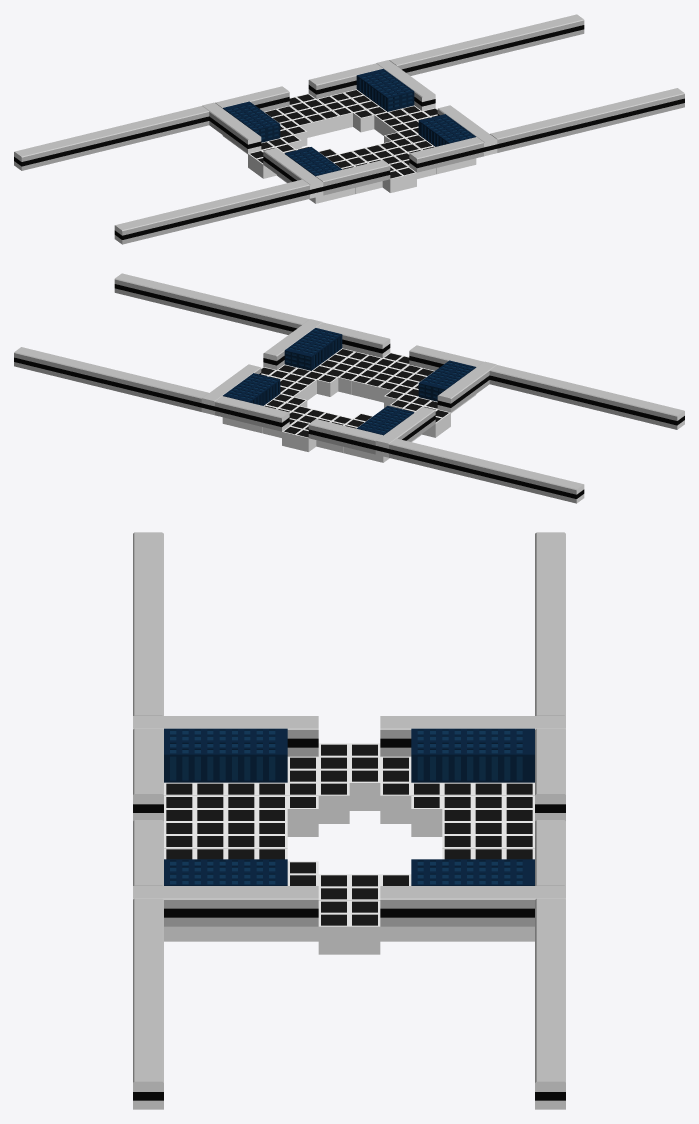
File: cargoLarge1.fbx
3 views of the same model, one above another, from view 1: azimuth 30°, elevation 25°; view 2: azimuth 150°, elevation 25°; view 3: azimuth 270°, elevation 25° (orthographic). The views are drawn at different scales.
Visible parts, largest first — view 1: Cube.164, Cube.009, Cube.194, Cube.001, Cube.003, Cube.208, Cube.008, Cube.163, Cube.118, Cube.010, Cube.168, Cube.200 (+4 smaller); view 2: Cube.009, Cube.164, Cube.163, Cube.008, Cube.208, Cube.003, Cube.194, Cube.001, Cube.101, Cube.010, Cube.168, Cube.202 (+4 smaller); view 3: Cube.163, Cube.001, Cube.164, Cube.194, Cube.208, Cube.003, Cube.009, Cube.008, Cube.063, Cube.064, Cube.082, Cube.089 (+19 smaller).
Part boxes in pixels (<box>): Cube.164: <box>356,72,400,111</box>; Cube.009: <box>418,117,462,146</box>; Cube.194: <box>370,69,414,108</box>; Cube.001: <box>236,101,280,141</box>; Cube.003: <box>222,105,266,142</box>; Cube.208: <box>284,150,328,176</box>; Cube.008: <box>432,114,475,140</box>; Cube.163: <box>298,147,341,172</box>; Cube.118: <box>353,109,374,132</box>; Cube.010: <box>409,150,430,172</box>; Cube.168: <box>308,76,329,98</box>; Cube.200: <box>414,88,435,110</box>; Cube.009: <box>298,331,342,370</box>; Cube.164: <box>236,376,280,405</box>; Cube.163: <box>418,360,462,400</box>; Cube.008: <box>284,328,328,367</box>; Cube.208: <box>432,364,476,401</box>; Cube.003: <box>370,409,414,435</box>; Cube.194: <box>223,373,266,399</box>; Cube.001: <box>357,406,400,431</box>; Cube.101: <box>317,374,338,396</box>; Cube.010: <box>369,335,390,357</box>; Cube.168: <box>268,409,289,431</box>; Cube.202: <box>263,347,284,369</box>; Cube.163: <box>164,741,287,782</box>; Cube.001: <box>411,741,534,782</box>; Cube.164: <box>411,859,534,872</box>; Cube.194: <box>411,872,534,885</box>; Cube.208: <box>164,728,287,741</box>; Cube.003: <box>411,728,534,741</box>; Cube.009: <box>164,859,287,872</box>; Cube.008: <box>164,872,287,885</box>; Cube.063: <box>349,769,380,810</box>; Cube.064: <box>318,913,349,954</box>; Cube.082: <box>380,782,411,823</box>; Cube.089: <box>318,782,349,823</box>.
Bounding box in the file's own units: 8400 × 400 × 2800.
